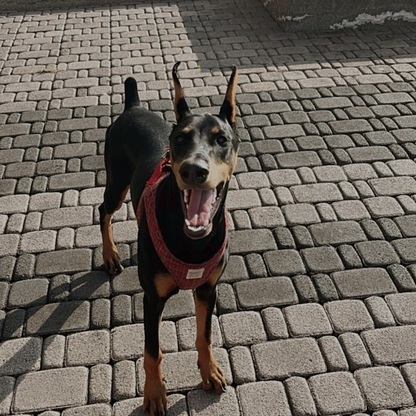doberman: (93, 63, 235, 413)
